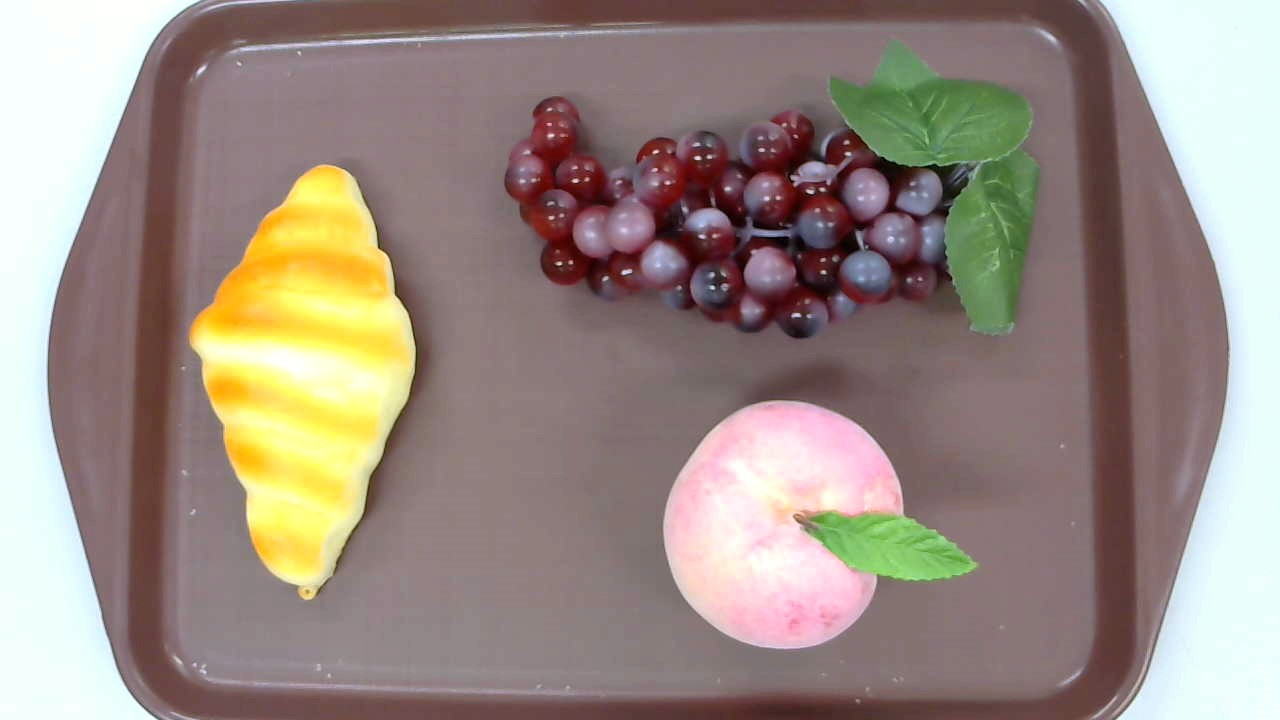croissant: (189, 165, 416, 601)
grape: (504, 36, 1040, 339)
peach: (663, 399, 978, 650)
